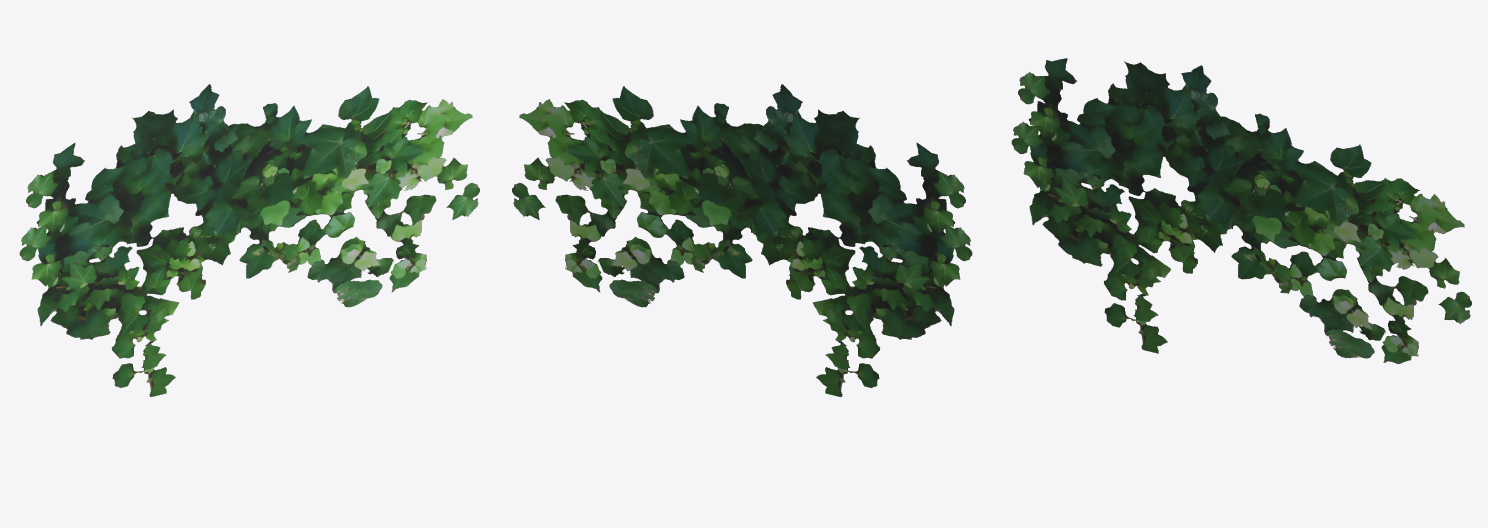
The model's file is ivy_1_dream.glb.
The picture shows the model from 3 angles, left to right: view 1: azimuth 30°, elevation 25°; view 2: azimuth 150°, elevation 25°; view 3: azimuth 330°, elevation 25°; orthographic projection.
Parts seen in each view (by area): view 1: ivy_1; view 2: ivy_1; view 3: ivy_1.
Part boxes in pixels (x1,y1,x2,y2): ivy_1: (19, 84, 479, 396); ivy_1: (512, 84, 972, 396); ivy_1: (1011, 58, 1471, 364).
Bounding box in the file's own units: 2.12 × 1.67 × 0.
Materials: 1 (1 with a texture image).
